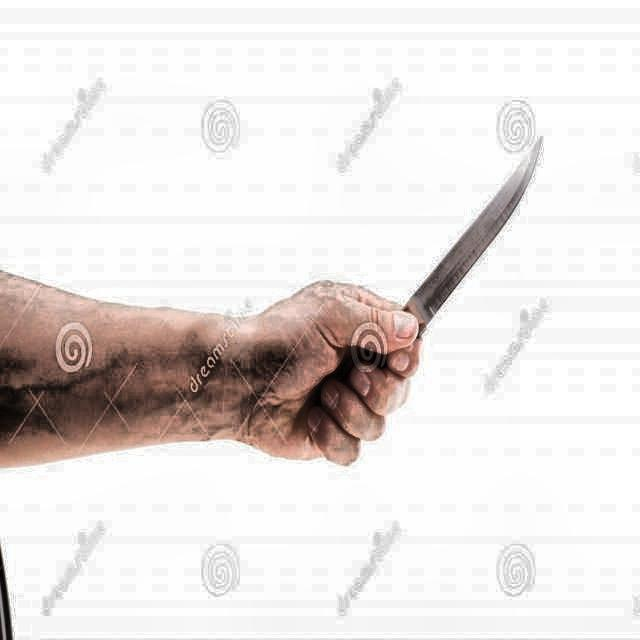knife: (318, 134, 542, 404)
